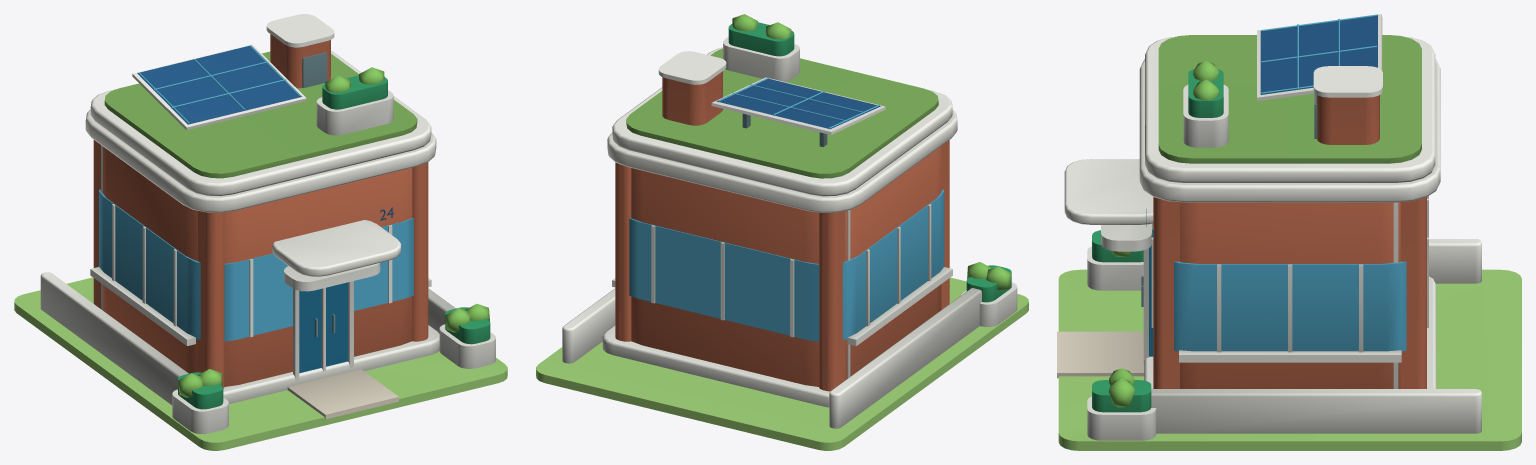
Rendered from house-coral-low.glb.
3 views of the same model, side by side, from view 1: azimuth 30°, elevation 25°; view 2: azimuth 150°, elevation 25°; view 3: azimuth 270°, elevation 25° (orthographic). The views are drawn at different scales.
Visible parts, largest first — view 1: house footing, house shell, continuous blue glazing, residential garden, green roof, photovoltaic cells, recessed entrance, front walk, planter foliage, shrub tip, roof access hatch; view 2: house shell, house footing, continuous blue glazing, residential garden, green roof, photovoltaic cells, planter foliage, shrub tip; view 3: house footing, house shell, residential garden, continuous blue glazing, green roof, photovoltaic cells, front walk, planter foliage, shrub tip.
Boxes of the visible parts, box(x1,y1,x2,y2) form: house footing: box(40, 14, 495, 433); house shell: box(93, 34, 428, 388); continuous blue glazing: box(99, 45, 413, 341); residential garden: box(14, 277, 507, 450); green roof: box(104, 51, 417, 178); photovoltaic cells: box(137, 45, 301, 124); recessed entrance: box(299, 282, 347, 373); front walk: box(287, 369, 398, 419); planter foliage: box(178, 75, 490, 409); shrub tip: box(178, 67, 489, 397); roof access hatch: box(302, 52, 335, 337); house shell: box(615, 71, 949, 391); house footing: box(562, 37, 1017, 428); continuous blue glazing: box(629, 77, 944, 341); residential garden: box(536, 277, 1028, 450); green roof: box(626, 48, 938, 178); photovoltaic cells: box(716, 79, 880, 129); planter foliage: box(728, 22, 1011, 302); shrub tip: box(732, 14, 1011, 290); house footing: box(1064, 14, 1481, 440); house shell: box(1153, 95, 1426, 388); residential garden: box(1058, 269, 1521, 450); continuous blue glazing: box(1174, 14, 1406, 351); green roof: box(1158, 35, 1421, 163); photovoltaic cells: box(1260, 14, 1377, 94); front walk: box(1057, 331, 1144, 378); planter foliage: box(1092, 69, 1223, 412); shrub tip: box(1109, 61, 1218, 407).
Bounding box in the file's own units: 2.73 × 2.4 × 3.09.
